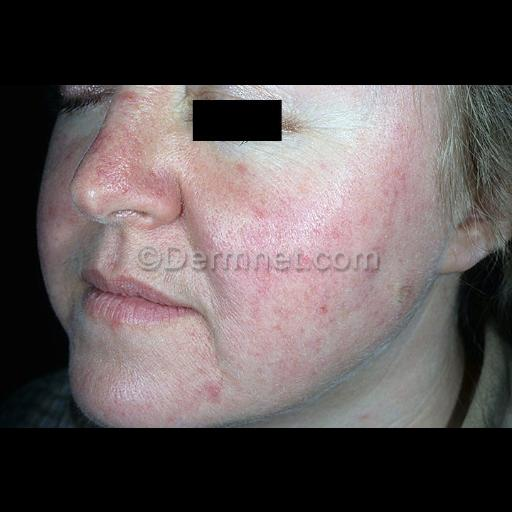Skin_Lesion: (240, 206, 320, 314), (98, 124, 174, 204), (337, 212, 389, 268), (180, 370, 228, 412)
